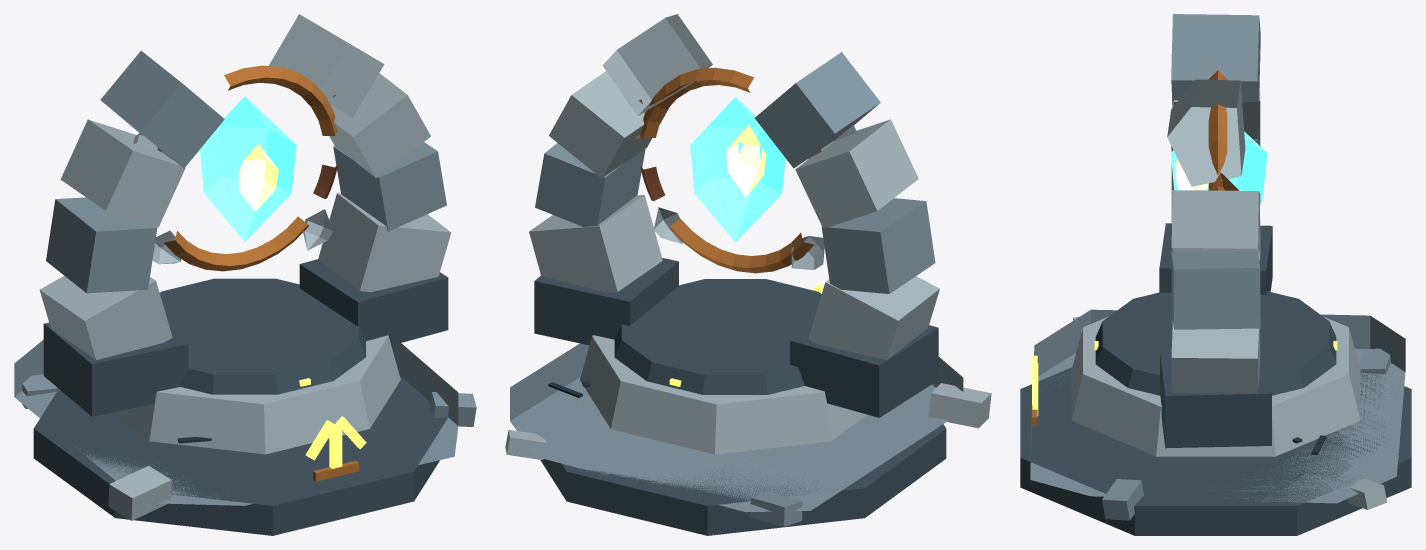
Rendered from Wachtmal_von_Ahnhoehe.glb.
The picture shows the model from 3 angles, left to right: view 1: azimuth 30°, elevation 25°; view 2: azimuth 150°, elevation 25°; view 3: azimuth 270°, elevation 25°; orthographic projection.
Parts seen in each view (by area): view 1: Arch_Left_Broken, Base_Lower_Octagon, Arch_Right_Broken, Plinth_Rune_Disc, Plinth_Upper_Octagon, Arch_Left_Foot, Core_Crystal, Arch_Right_Foot, Base_Chipped_Slab, Arch_Right_Broken_Cap, Halo_Broken_Segment_03, Halo_Broken_Segment_01 (+7 smaller); view 2: Arch_Left_Broken, Base_Chipped_Slab, Arch_Right_Broken, Plinth_Rune_Disc, Plinth_Upper_Octagon, Base_Lower_Octagon, Arch_Left_Foot, Core_Crystal, Arch_Right_Foot, Arch_Right_Broken_Cap, Halo_Broken_Segment_03, Halo_Broken_Segment_01 (+6 smaller); view 3: Base_Lower_Octagon, Arch_Right_Broken, Base_Chipped_Slab, Plinth_Upper_Octagon, Plinth_Rune_Disc, Arch_Left_Broken, Arch_Right_Foot, Arch_Right_Broken_Cap, Arch_Left_Foot, Core_Crystal, Ground_Shard_02, Halo_Broken_Segment_01 (+2 smaller).
Part boxes in pixels (<box>): Arch_Left_Broken: <box>39,51,224,359</box>; Base_Lower_Octagon: <box>33,376,447,535</box>; Arch_Right_Broken: <box>318,73,451,292</box>; Plinth_Rune_Disc: <box>159,278,365,394</box>; Plinth_Upper_Octagon: <box>111,335,400,454</box>; Arch_Left_Foot: <box>43,322,188,416</box>; Core_Crystal: <box>200,96,296,241</box>; Arch_Right_Foot: <box>299,259,448,345</box>; Base_Chipped_Slab: <box>14,340,458,505</box>; Arch_Right_Broken_Cap: <box>269,14,384,117</box>; Halo_Broken_Segment_03: <box>164,216,308,271</box>; Halo_Broken_Segment_01: <box>224,65,337,135</box>; Arch_Left_Broken: <box>755,52,939,360</box>; Base_Chipped_Slab: <box>510,343,963,512</box>; Arch_Right_Broken: <box>529,71,669,292</box>; Plinth_Rune_Disc: <box>614,279,821,394</box>; Plinth_Upper_Octagon: <box>580,335,866,454</box>; Base_Lower_Octagon: <box>540,424,946,535</box>; Arch_Left_Foot: <box>790,325,938,417</box>; Core_Crystal: <box>690,97,785,242</box>; Arch_Right_Foot: <box>534,258,678,345</box>; Arch_Right_Broken_Cap: <box>602,14,712,115</box>; Halo_Broken_Segment_03: <box>669,218,814,273</box>; Halo_Broken_Segment_01: <box>641,67,753,138</box>; Base_Lower_Octagon: <box>1020,367,1411,535</box>; Arch_Right_Broken: <box>1171,190,1260,393</box>; Base_Chipped_Slab: <box>1030,309,1405,503</box>; Plinth_Upper_Octagon: <box>1071,316,1360,456</box>; Plinth_Rune_Disc: <box>1095,291,1336,395</box>; Arch_Left_Broken: <box>1171,14,1260,260</box>; Arch_Right_Foot: <box>1160,348,1271,448</box>; Arch_Right_Broken_Cap: <box>1167,79,1245,186</box>; Arch_Left_Foot: <box>1159,223,1272,295</box>; Core_Crystal: <box>1170,131,1267,202</box>; Ground_Shard_02: <box>1102,479,1143,520</box>; Halo_Broken_Segment_01: <box>1208,70,1227,190</box>.
Size of what is drawn, in the model's own units: 2.1 by 2.18 by 1.9.
